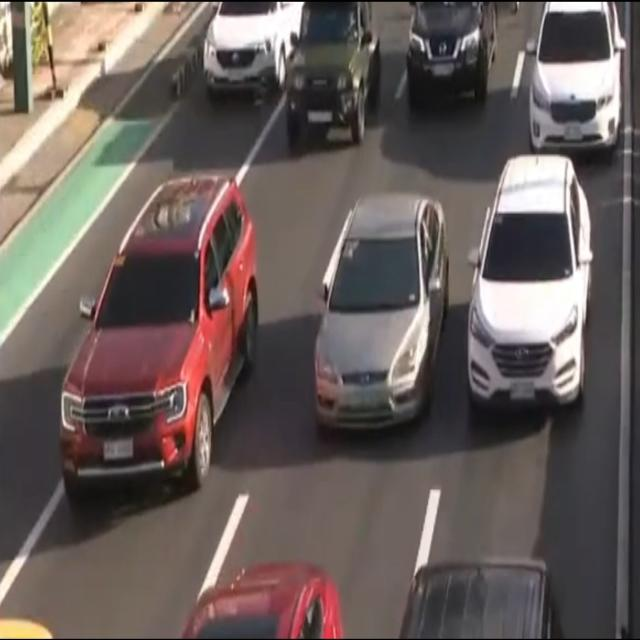SUV: (60, 178, 257, 494), (465, 152, 593, 412), (522, 0, 626, 156), (284, 0, 382, 145), (398, 0, 503, 111), (202, 0, 306, 99)
Sedan: (313, 189, 450, 437)
